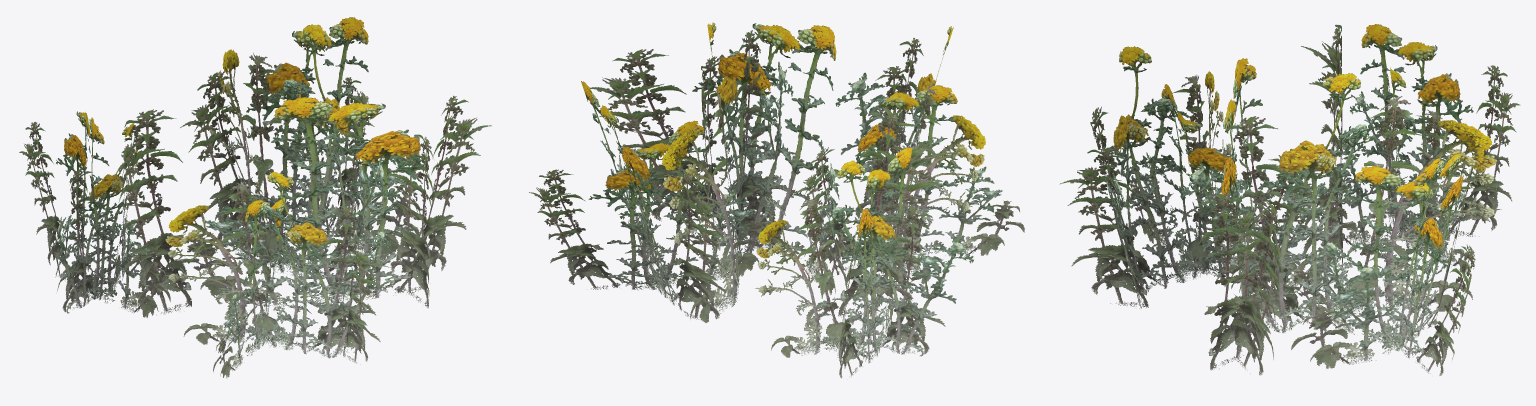
Rendered from proc_lizardtail_01.FBX.
3 views of the same model, side by side, from view 1: azimuth 30°, elevation 25°; view 2: azimuth 150°, elevation 25°; view 3: azimuth 270°, elevation 25° (orthographic). The views are drawn at different scales.
Parts seen in each view (by area): view 1: proc_lizardtail_01; view 2: proc_lizardtail_01; view 3: proc_lizardtail_01.
Boxes of the visible parts, x1,y1,x2,y2 form: proc_lizardtail_01: [19, 17, 491, 378]; proc_lizardtail_01: [529, 22, 1024, 378]; proc_lizardtail_01: [1059, 24, 1520, 375].
Size of the model in its own units: 2.59 by 2.33 by 1.54.
Materials: 1 (1 with a texture image).
